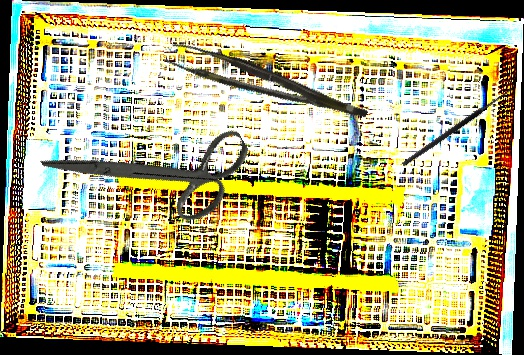Hook Surgical: (397, 79, 517, 168)
Iris Scissors: (39, 67, 267, 274)
Tissue Forceps: (163, 29, 369, 143)
